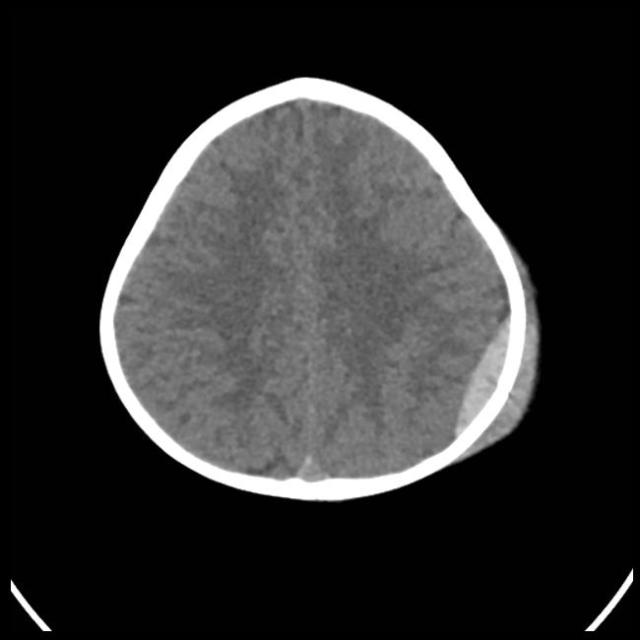lesion: (96, 75, 544, 501)
